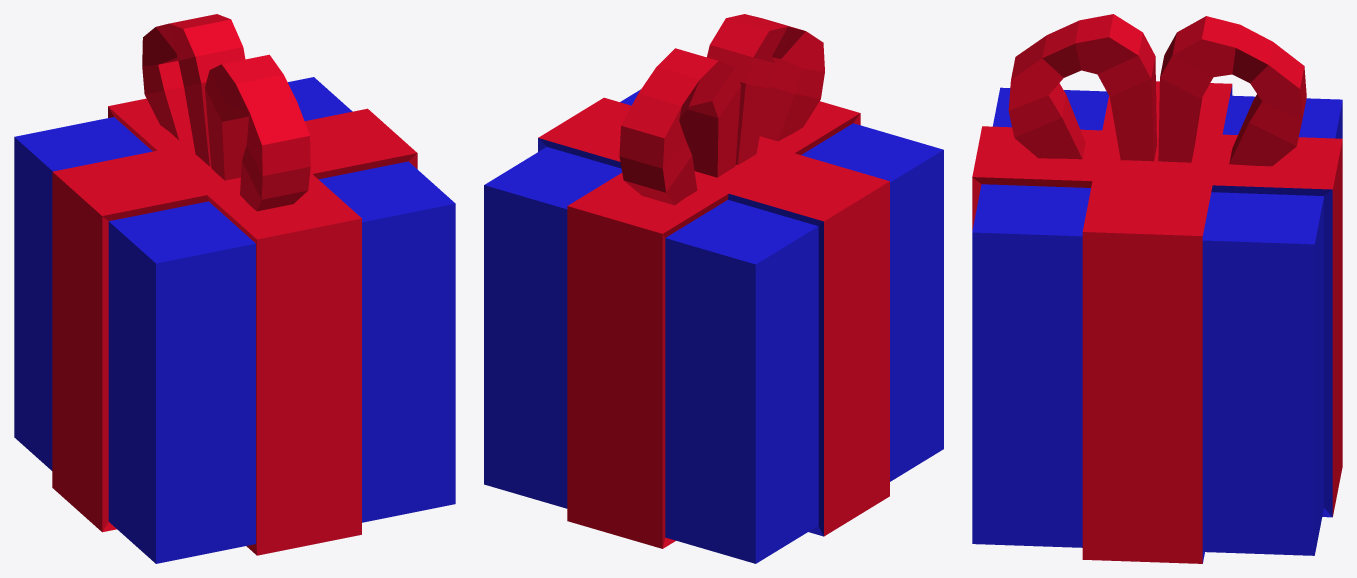
Rendered from darcek1.fbx.
3 views of the same model, side by side, from view 1: azimuth 30°, elevation 25°; view 2: azimuth 150°, elevation 25°; view 3: azimuth 270°, elevation 25° (orthographic). The views are drawn at different scales.
Visible parts, largest first — view 1: darcek1; view 2: darcek1; view 3: darcek1.
Boxes of the visible parts, box(x1,y1,x2,y2) form: darcek1: box(14, 14, 455, 563); darcek1: box(484, 14, 943, 563); darcek1: box(972, 14, 1342, 563).
Size of the model in its own units: 120 by 163 by 120.
